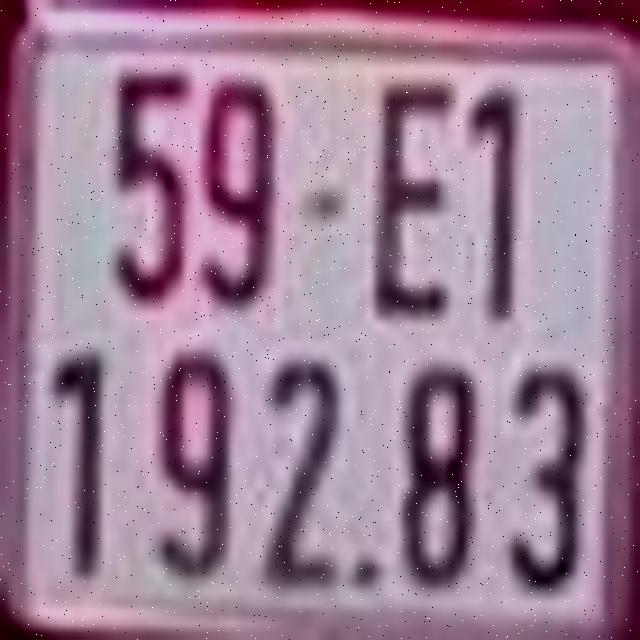1: (48, 346, 110, 578), (466, 79, 524, 321)
2: (263, 353, 339, 590)
3: (510, 362, 586, 591)
5: (112, 67, 189, 302)
8: (402, 361, 475, 588)
9: (155, 346, 233, 580), (200, 72, 276, 307)
E: (373, 75, 459, 320)
